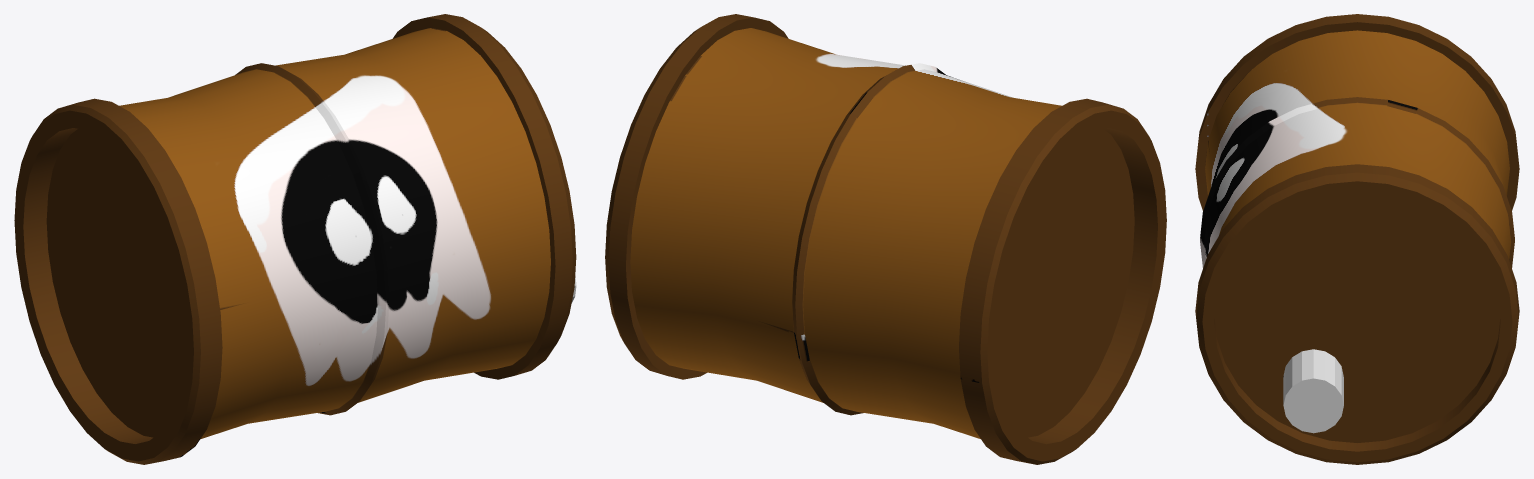
File: barrel.fbx
The picture shows the model from 3 angles, left to right: view 1: azimuth 30°, elevation 25°; view 2: azimuth 150°, elevation 25°; view 3: azimuth 270°, elevation 25°; orthographic projection. The views are drawn at different scales.
Visible parts, largest first — view 1: barrel; view 2: barrel; view 3: barrel, Cylinder.001.
Part boxes in pixels (bbox=[...]): barrel: bbox=[14, 14, 576, 464]; barrel: bbox=[605, 14, 1166, 464]; barrel: bbox=[1195, 14, 1519, 464]; Cylinder.001: bbox=[1283, 349, 1343, 433].
Bounding box in the file's own units: 60.13 × 44.9 × 44.9.
